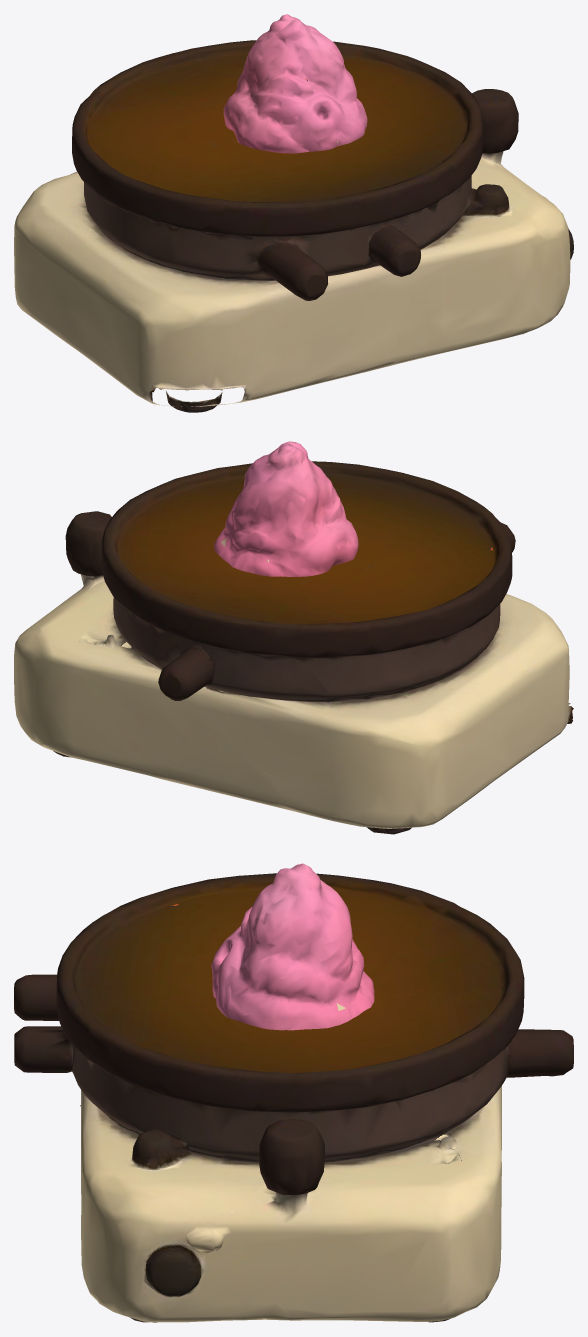
The model's file is glacier.glb.
3 views of the same model, one above another, from view 1: azimuth 30°, elevation 25°; view 2: azimuth 150°, elevation 25°; view 3: azimuth 270°, elevation 25° (orthographic). The views are drawn at different scales.
Parts seen in each view (by area): view 1: crepiere, barbe-papa; view 2: crepiere, barbe-papa; view 3: crepiere, barbe-papa.
Part boxes in pixels (x1=…): crepiere: x1=14, y1=40, x2=573, y2=412; barbe-papa: x1=223, y1=14, x2=367, y2=153; crepiere: x1=14, y1=461, x2=573, y2=834; barbe-papa: x1=214, y1=441, x2=358, y2=576; crepiere: x1=14, y1=873, x2=573, y2=1322; barbe-papa: x1=211, y1=863, x2=374, y2=1030.
Size of the model in its own units: 0.4497 by 0.3 by 0.4224.
3 materials, 3 textured.
